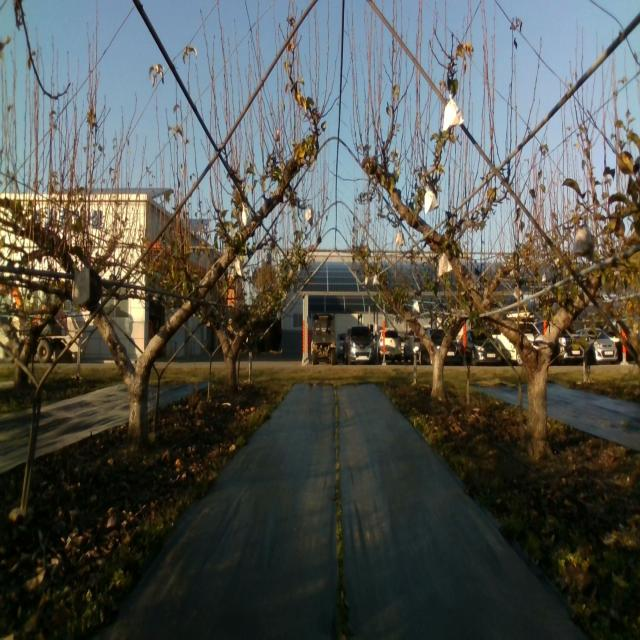pearbags: (571, 216, 594, 262), (442, 95, 466, 132), (424, 188, 440, 214), (438, 252, 453, 276)
